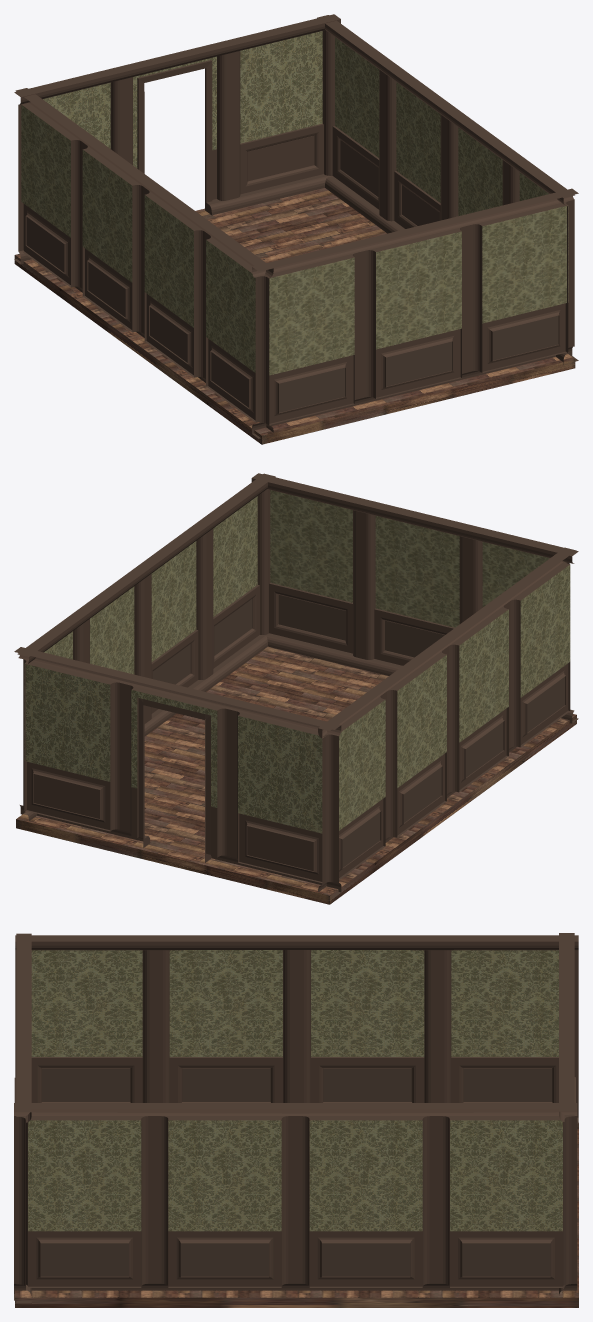
Rendered from office.fbx.
3 renders of one model, top to bottom at view 1: azimuth 30°, elevation 25°; view 2: azimuth 150°, elevation 25°; view 3: azimuth 270°, elevation 25°, orthographic. The views are drawn at different scales.
Visible parts, largest first — view 1: Plane.002, Plane, Plane.005, Plane.001, Cube; view 2: Plane.005, Plane, Plane.002, Plane.001, Cube; view 3: Plane.001, Plane, Cube, Plane.005, Plane.002.
Boxes of the visible parts, x1,y1,x2,y2 form: Plane.002: (252, 188, 578, 438); Plane: (15, 88, 273, 432); Plane.005: (14, 14, 340, 264); Plane.001: (317, 15, 574, 365); Cube: (14, 188, 575, 444); Plane.005: (14, 647, 341, 897); Plane: (318, 547, 576, 892); Plane.002: (251, 473, 578, 723); Plane.001: (17, 473, 275, 820); Cube: (16, 646, 576, 904); Plane.001: (14, 1103, 577, 1300); Plane: (15, 935, 578, 1129); Cube: (15, 1123, 578, 1307); Plane.005: (559, 933, 575, 1294); Plane.002: (14, 933, 31, 1303).
Bounding box in the file's own units: 802 × 416 × 1073.
